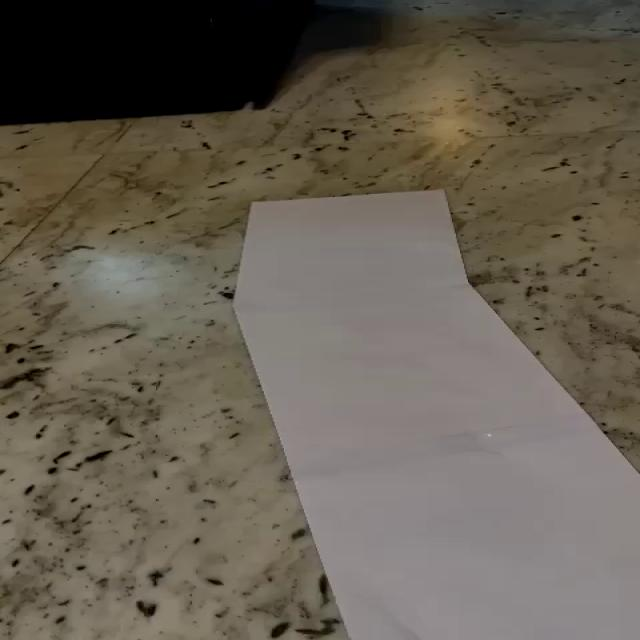road: (233, 190, 639, 640)
